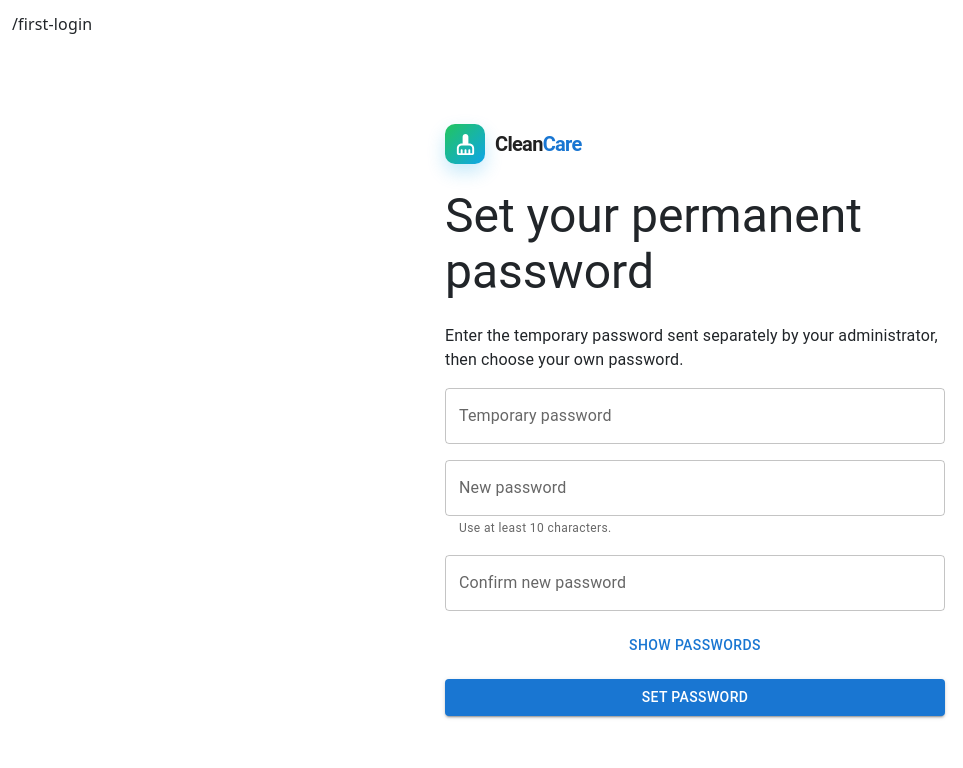
Test: keeps expired-invitation errors on the setup page without authenticating
Type "Admin-added-temp-123" into the password field labelled "Temporary password" at (695, 416), box left=445, top=388, right=945, bottom=444
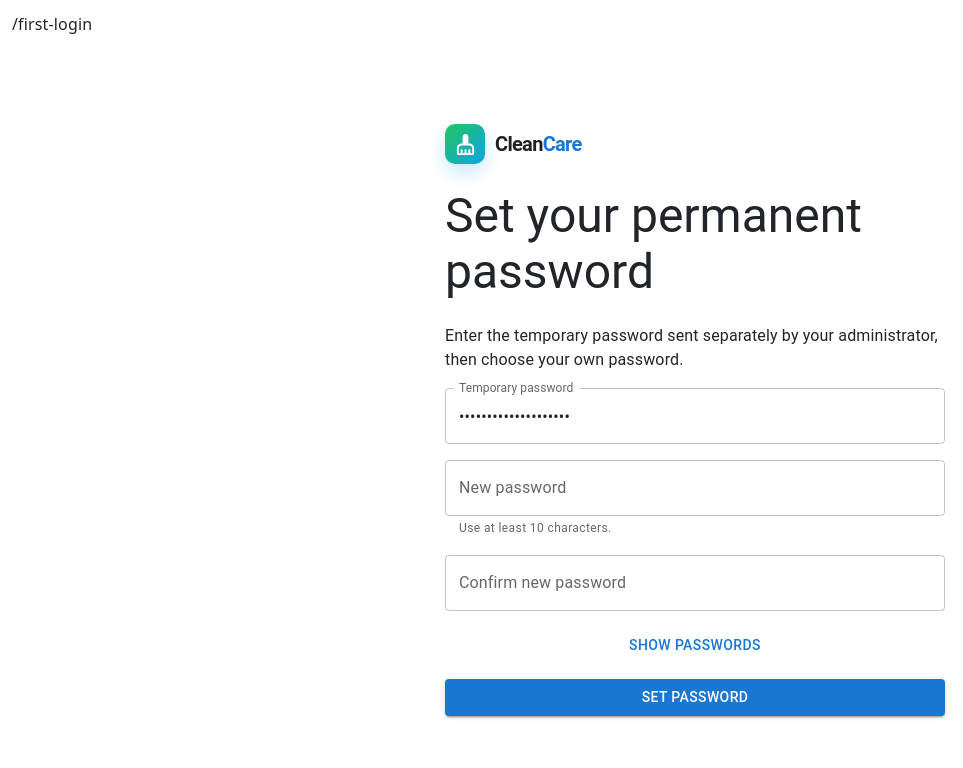
Type "Employee-chosen-password-456" into the password field labelled "New password" at (695, 488), box left=445, top=460, right=945, bottom=516
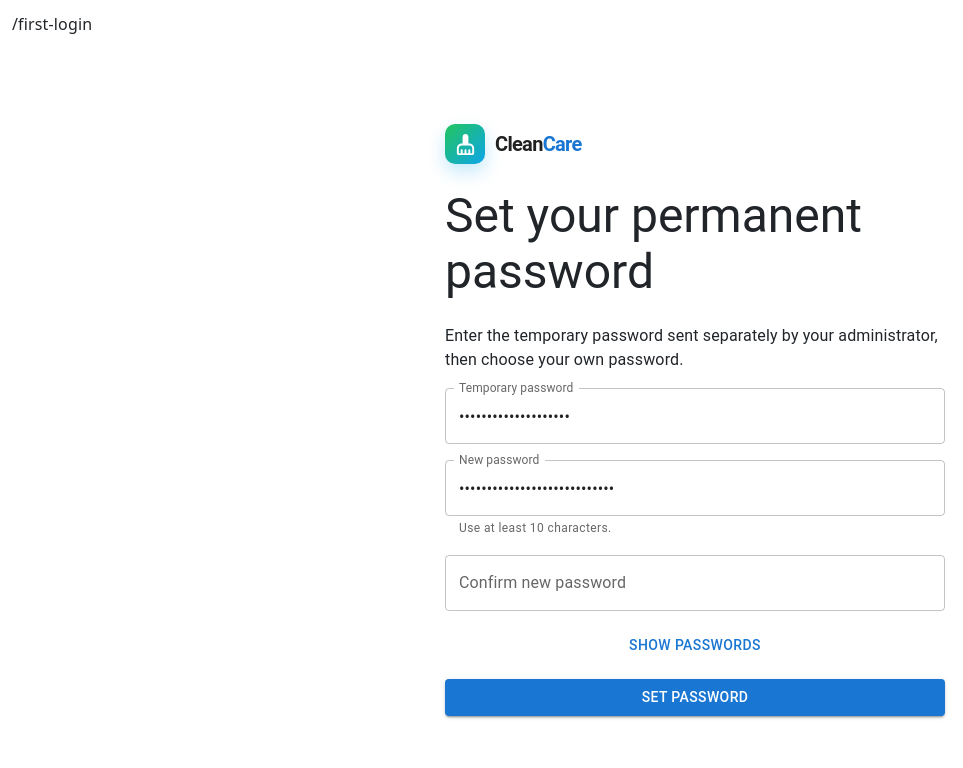
Type "Employee-chosen-password-456" into the password field labelled "Confirm new password" at (695, 583), box left=445, top=555, right=945, bottom=611
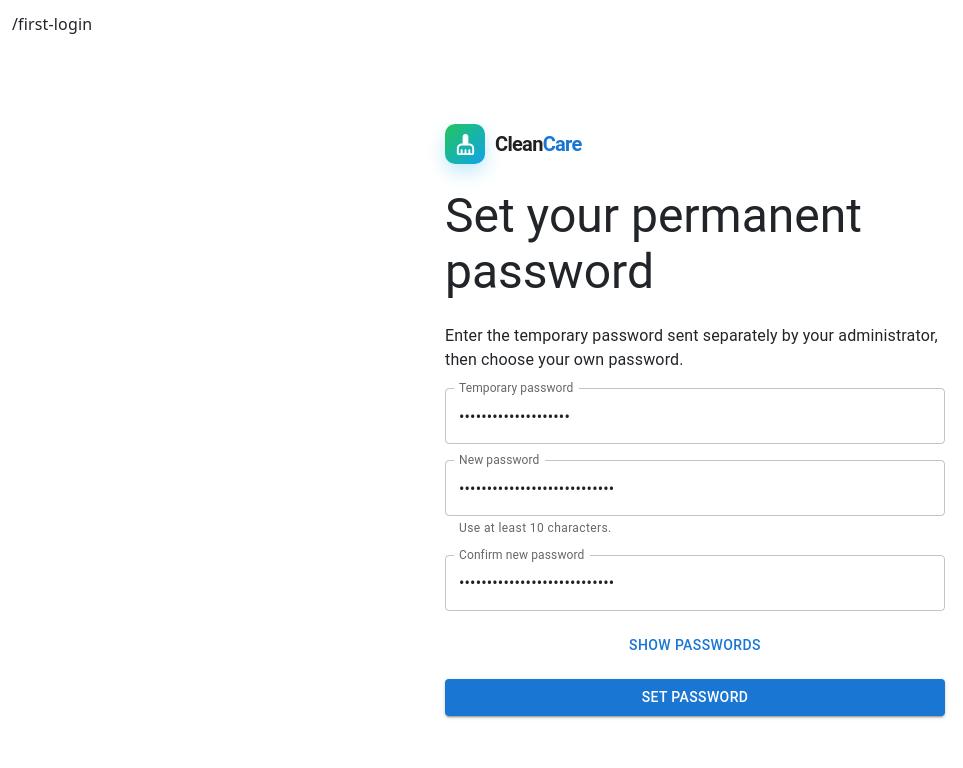
Click the button "Set password" at (695, 698), box left=445, top=680, right=945, bottom=716
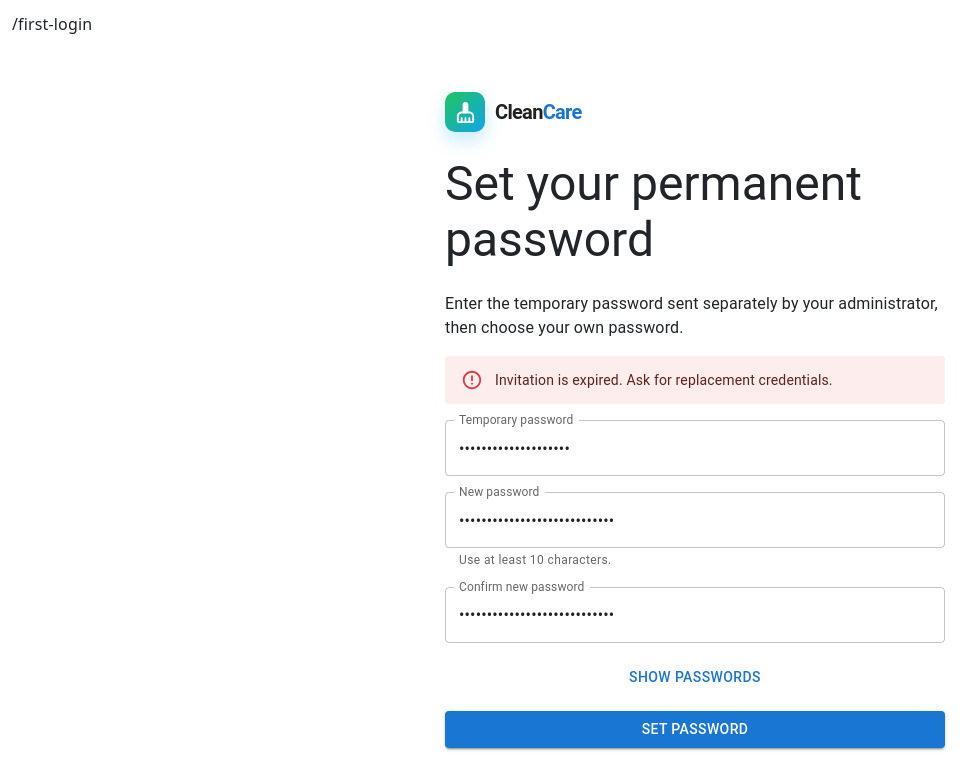
Expected: the text "Invitation is expired. Ask for replacement credentials." is shown, left=495, top=372, right=833, bottom=388
